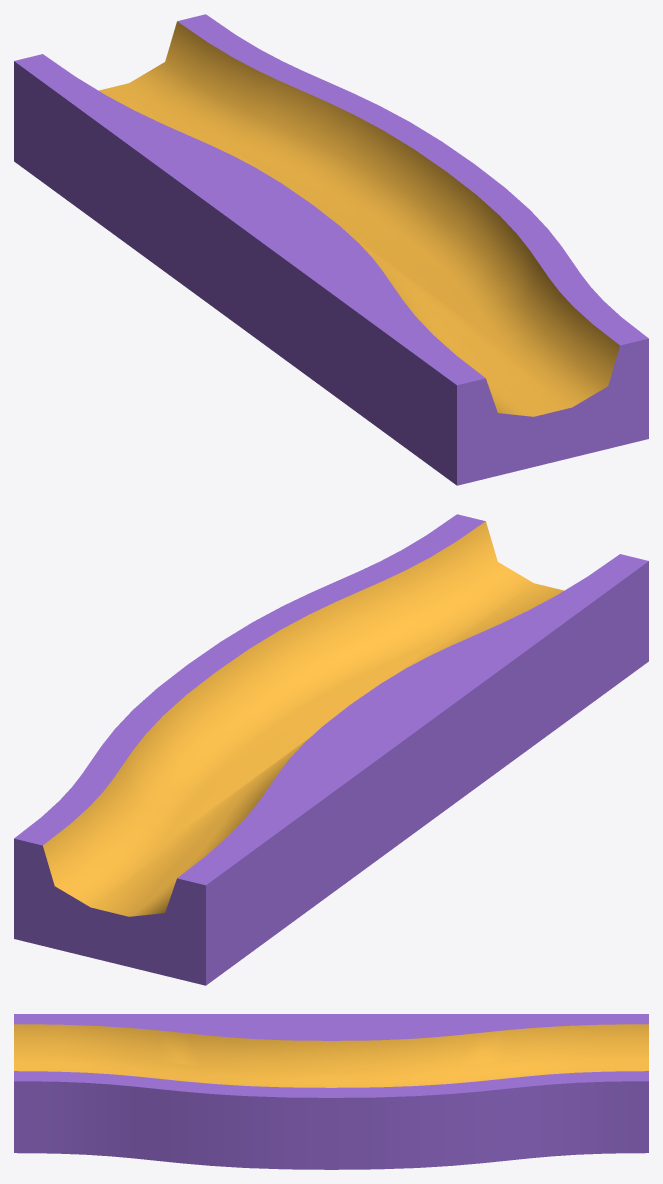
The model's file is kenney-marble-wave-solid-a.glb.
The picture shows the model from 3 angles, top to bottom: view 1: azimuth 30°, elevation 25°; view 2: azimuth 150°, elevation 25°; view 3: azimuth 270°, elevation 25°; orthographic projection. The views are drawn at different scales.
Visible parts, largest first — view 1: wave-solid-a; view 2: wave-solid-a; view 3: wave-solid-a.
Boxes of the visible parts, x1,y1,x2,y2 form: wave-solid-a: (14, 14, 648, 485); wave-solid-a: (14, 514, 648, 985); wave-solid-a: (14, 1014, 648, 1169).
Size of the model in its own units: 1.25 by 0.5 by 4.
Materials: 1 (1 with a texture image).
